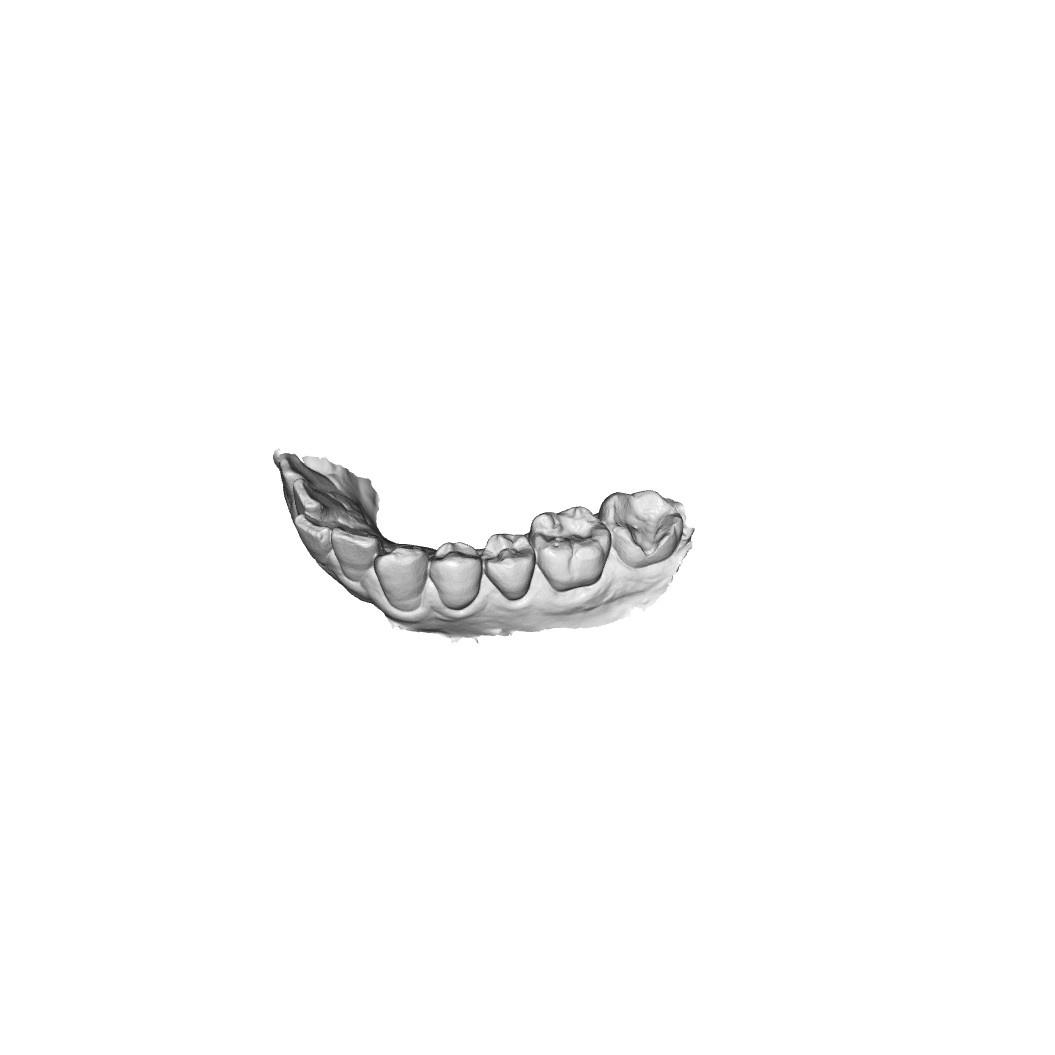canine: (377, 541, 428, 614)
incisor: (334, 524, 375, 578), (294, 510, 333, 556), (293, 477, 329, 515)
molar: (531, 507, 609, 591), (606, 490, 685, 568)
premolar: (483, 532, 538, 603), (427, 539, 482, 610)
